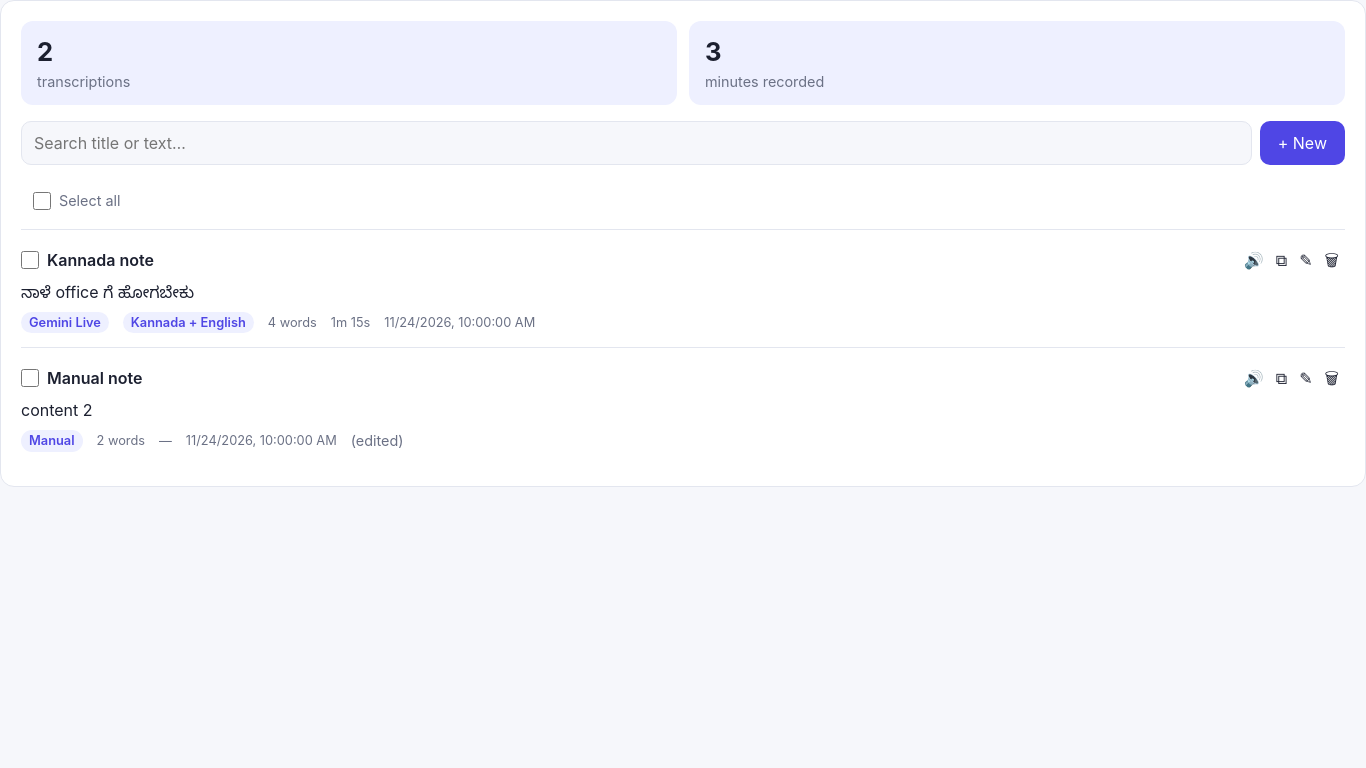
Test: HistoryDashboard › multi-select › shows bulk delete errors and keeps the selection
Check: the button "Kannada note" is shown, box [47,248,1230,272]
Click the checkbox named "Select Kannada note": (30, 260) [21,251,39,269]
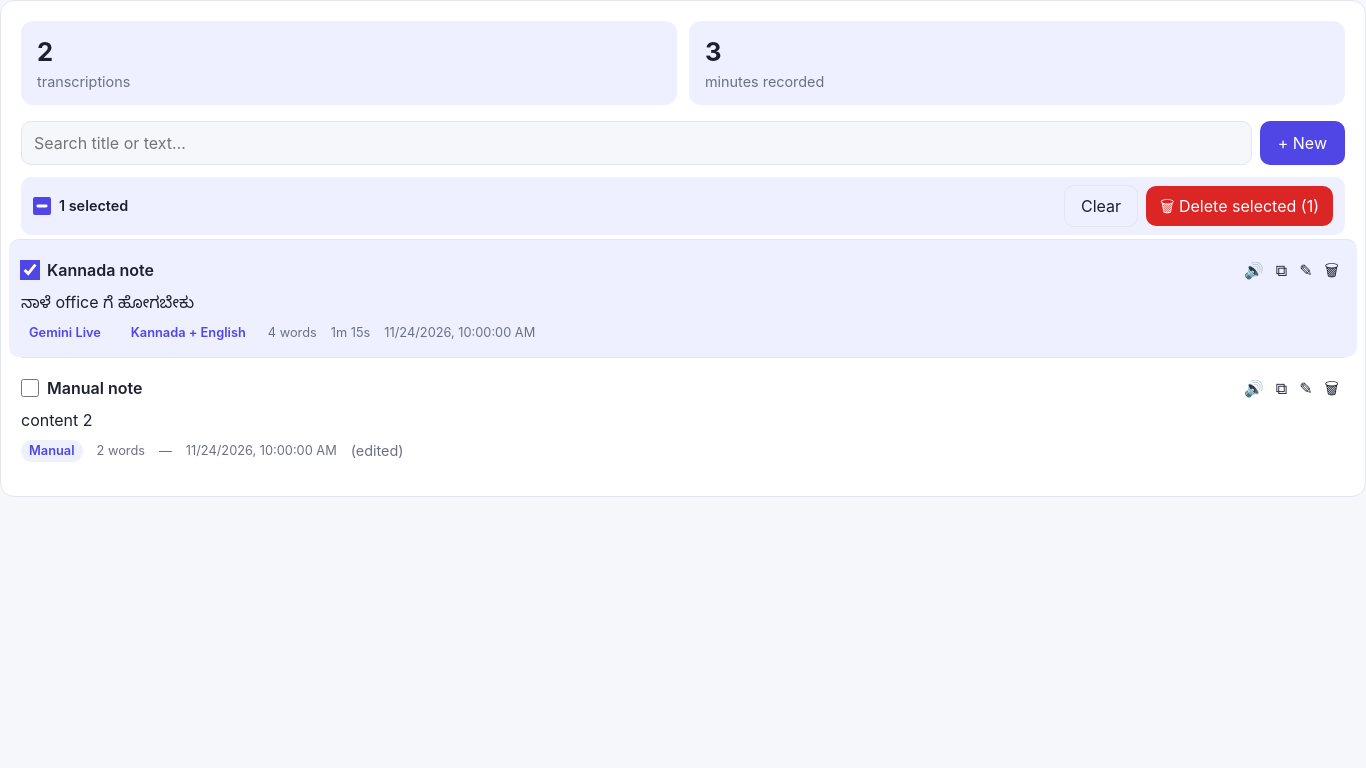
Click the button "🗑 Delete selected (1)": (1240, 206) [1146,186,1333,226]
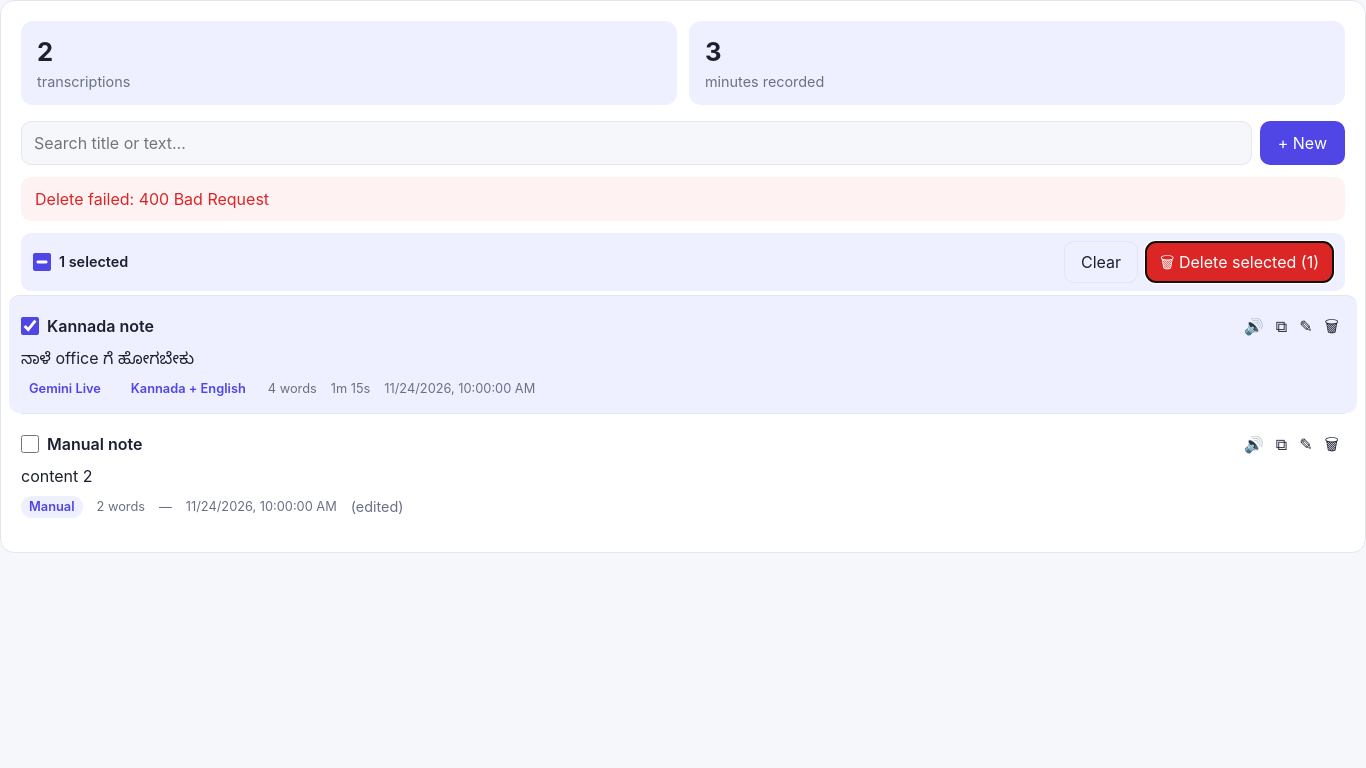
Check: the text "1 selected" is shown, box [59,251,128,273]
Check: the text "Delete failed: 400 Bad Request" is shown, box [21,177,1345,221]
